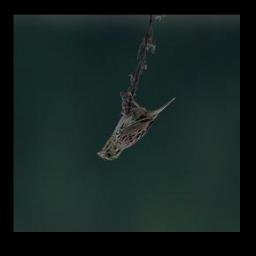Sparrow: (98, 91, 177, 162)
